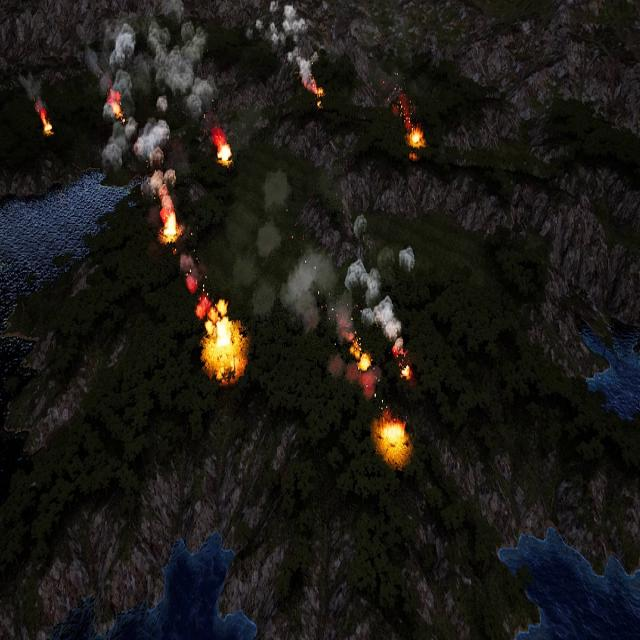fire: (200, 302, 244, 378), (379, 419, 406, 457), (345, 337, 372, 375), (213, 129, 232, 167), (392, 344, 412, 380), (405, 125, 427, 154), (162, 209, 180, 241), (106, 91, 122, 119), (38, 106, 53, 135), (308, 76, 325, 96)
smoke: (231, 171, 415, 396), (93, 3, 217, 205), (247, 0, 317, 79), (175, 237, 220, 317), (383, 68, 416, 124)
